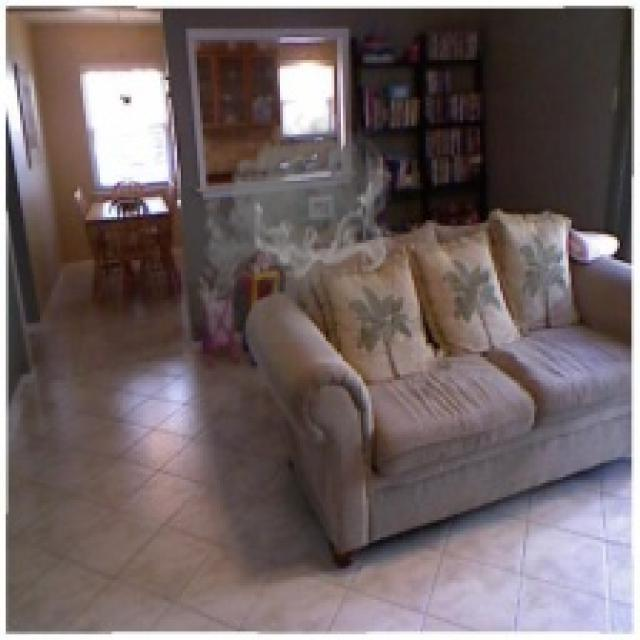Smoke: (192, 106, 394, 343)
